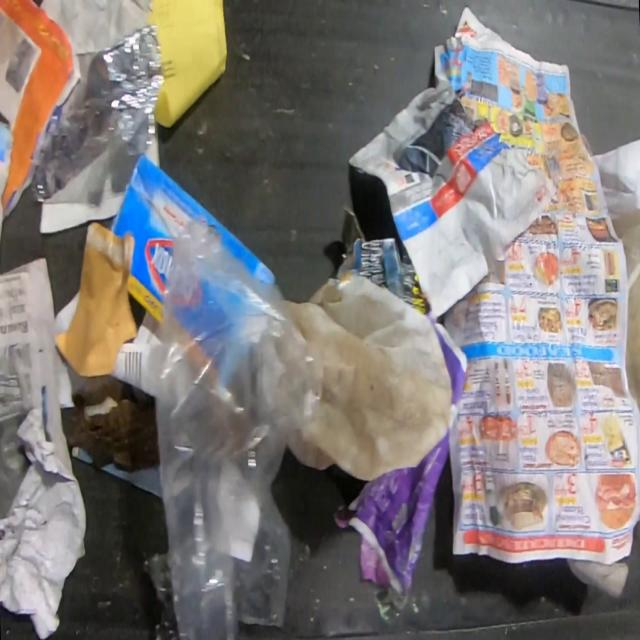soft_plastic: (142, 217, 320, 639), (281, 275, 456, 483), (32, 23, 164, 204)
